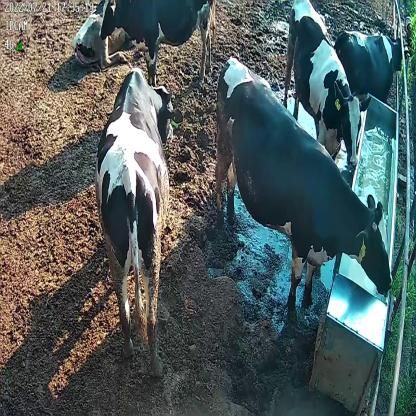cow: (212, 57, 394, 314), (94, 70, 176, 381), (283, 0, 372, 171), (98, 0, 221, 94), (334, 25, 408, 100)
